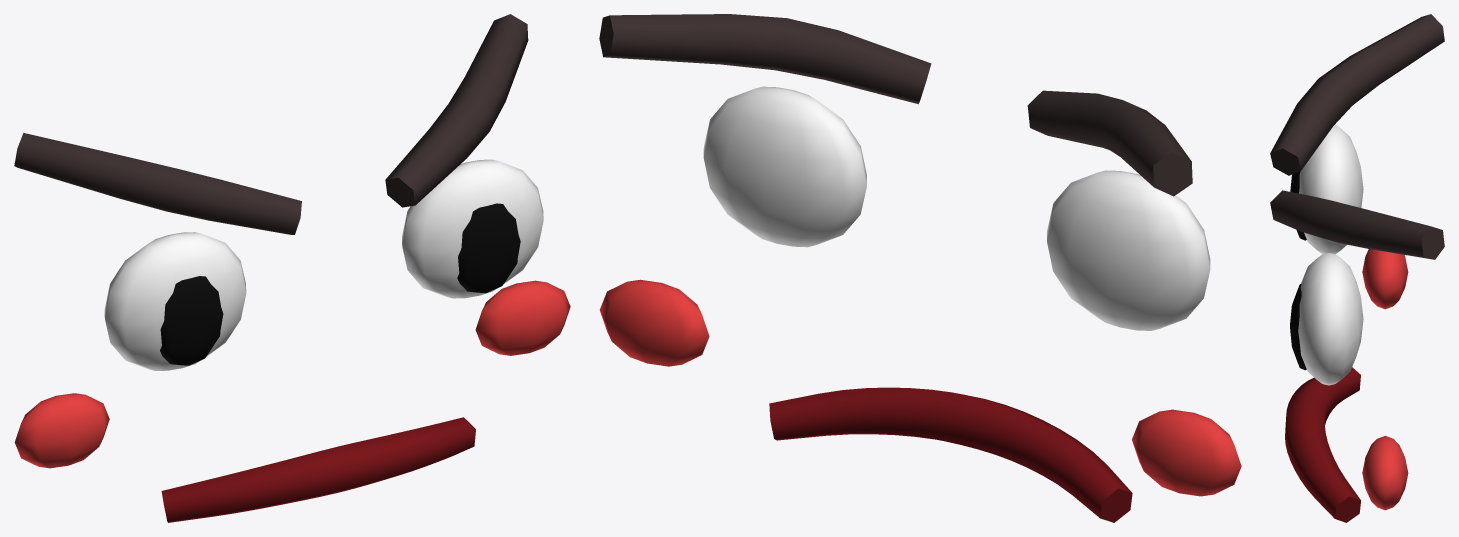
File: gnome_face_2.obj
The picture shows the model from 3 angles, left to right: view 1: azimuth 30°, elevation 25°; view 2: azimuth 150°, elevation 25°; view 3: azimuth 270°, elevation 25°; orthographic projection. The views are drawn at different scales.
Visible parts, largest first — view 1: part8, part6, part4, part0, part2, part7, part3, part5, part1; view 2: part0, part4, part8, part2, part6, part7, part3; view 3: part6, part0, part8, part2, part4, part3, part7, part1, part5.
Part boxes in pixels (x1=…): part8: x1=161, y1=417, x2=475, y2=522; part6: x1=14, y1=133, x2=301, y2=234; part4: x1=104, y1=232, x2=246, y2=370; part0: x1=402, y1=159, x2=543, y2=298; part2: x1=385, y1=14, x2=528, y2=207; part7: x1=14, y1=393, x2=109, y2=468; part3: x1=475, y1=280, x2=570, y2=355; part5: x1=160, y1=276, x2=223, y2=365; part1: x1=457, y1=203, x2=520, y2=293; part0: x1=703, y1=86, x2=866, y2=247; part4: x1=1047, y1=170, x2=1210, y2=330; part8: x1=769, y1=387, x2=1132, y2=522; part2: x1=599, y1=14, x2=931, y2=104; part6: x1=1027, y1=90, x2=1192, y2=196; part7: x1=1132, y1=409, x2=1241, y2=496; part3: x1=600, y1=279, x2=709, y2=366; part6: x1=1270, y1=14, x2=1444, y2=175; part0: x1=1298, y1=253, x2=1363, y2=385; part8: x1=1285, y1=367, x2=1360, y2=522; part2: x1=1270, y1=190, x2=1444, y2=259; part4: x1=1299, y1=124, x2=1363, y2=254; part3: x1=1362, y1=435, x2=1408, y2=510; part7: x1=1362, y1=249, x2=1408, y2=309; part1: x1=1290, y1=283, x2=1306, y2=370; part5: x1=1290, y1=171, x2=1306, y2=240.
Size of the model in its own units: 0.1496 by 0.0975 by 0.0456.
